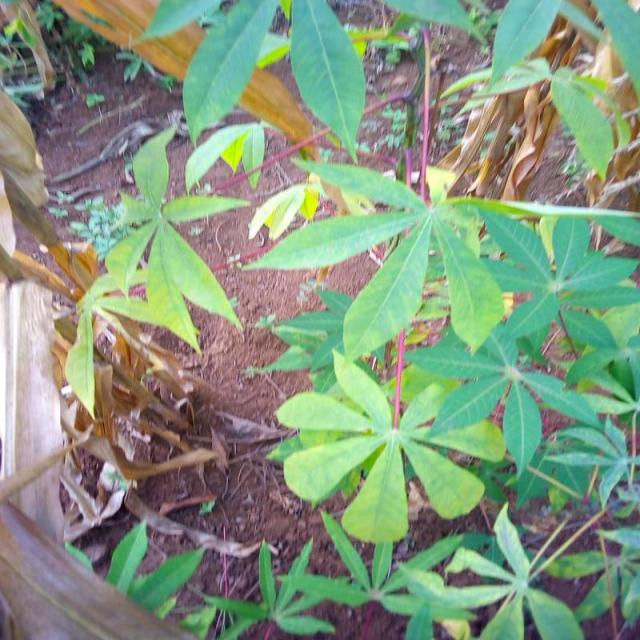cassava leaf: (271, 343, 506, 544), (288, 0, 366, 162)
